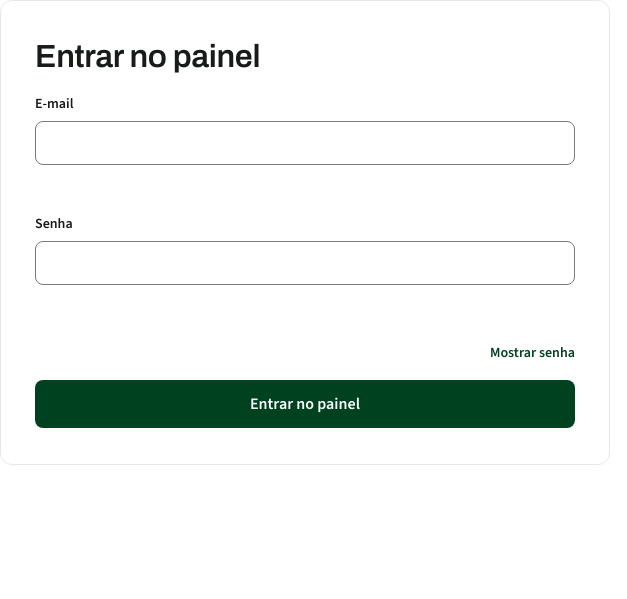
it: LoginForm administrativo › informa quando o limite de tentativas e atingido
In the field labelled "E-mail": point(305, 143) x1=35 y1=121 x2=575 y2=165, type "operador@example.invalid"
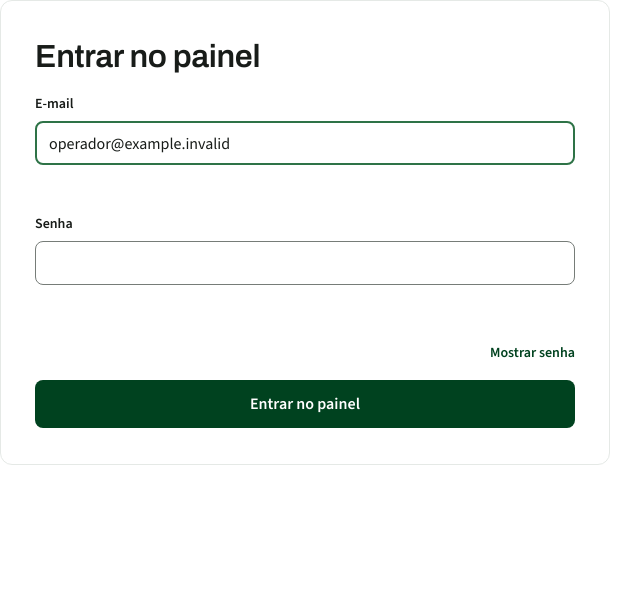
In the password field labelled "Senha": point(305, 263) x1=35 y1=241 x2=575 y2=285, type "SenhaFicticia123!"
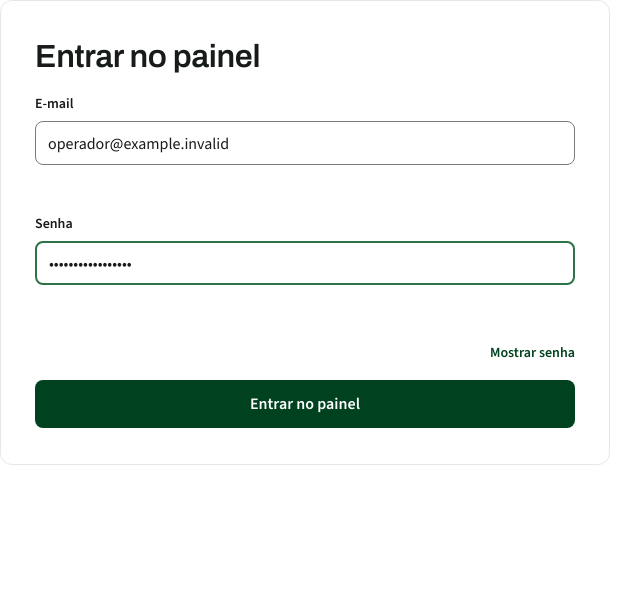
Click the button "Entrar no painel": point(305, 404) x1=35 y1=380 x2=575 y2=428
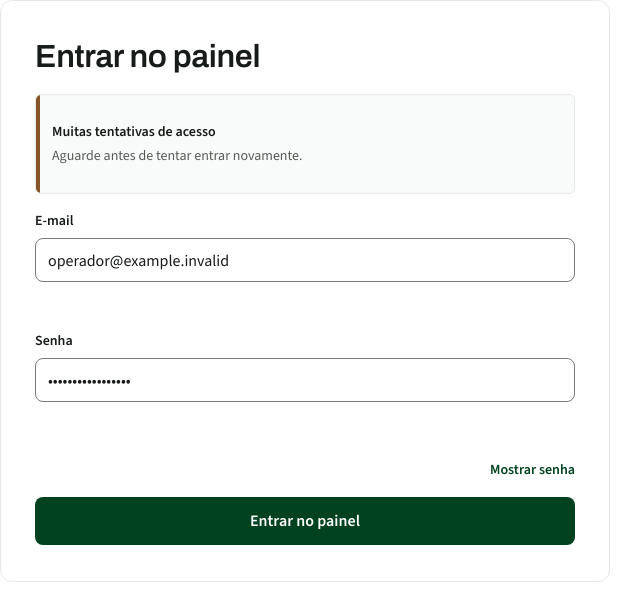
Expected: the text "Muitas tentativas de acesso" is shown, x1=52 y1=122 x2=216 y2=141
